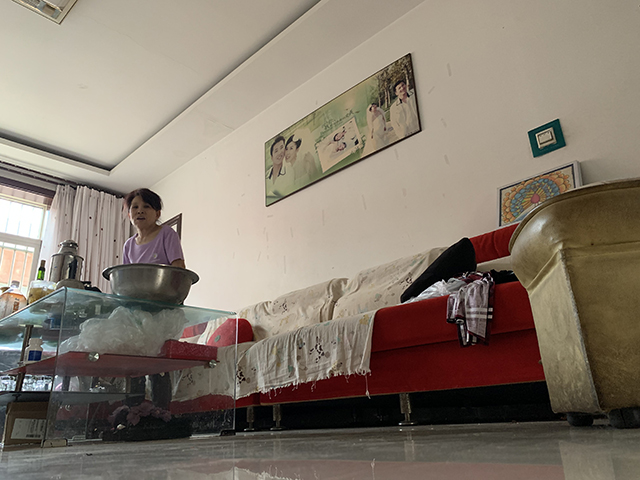sofa: (168, 221, 545, 434)
stool: (506, 175, 640, 431)
table: (1, 284, 238, 449)
